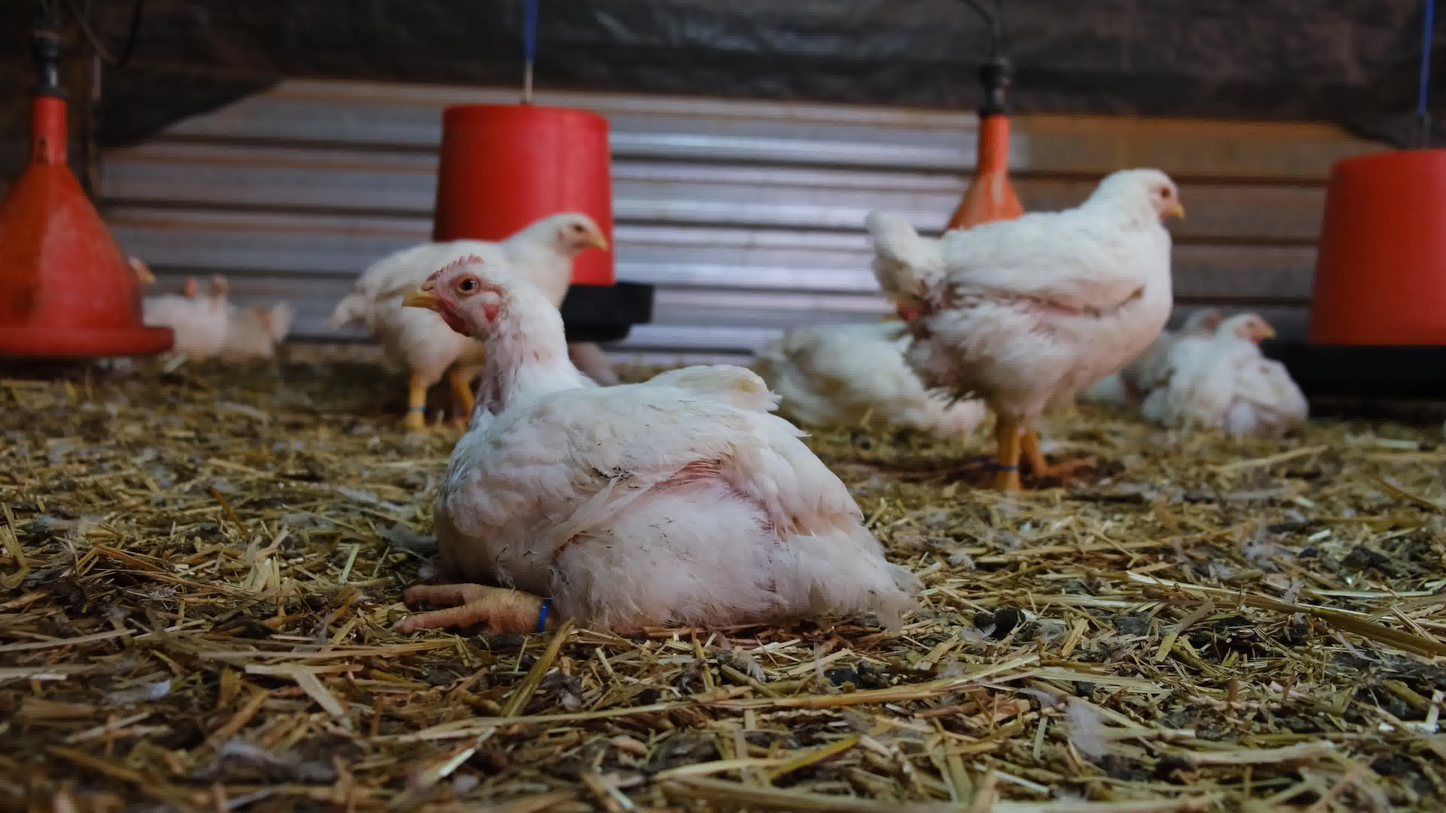AbNormal: (388, 253, 915, 635), (755, 315, 1042, 435), (1143, 311, 1311, 435), (1108, 303, 1235, 402)
Normal: (869, 162, 1187, 499), (329, 211, 614, 435), (182, 273, 292, 367), (134, 271, 238, 363)
